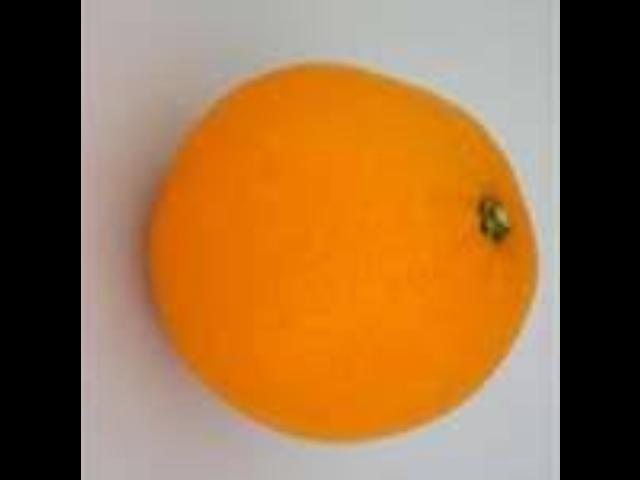Oranges: (147, 67, 541, 443)
